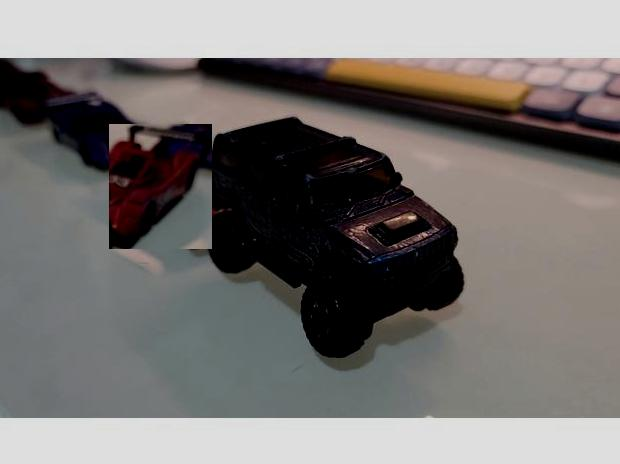toy-car: (206, 116, 464, 358), (108, 124, 211, 249), (40, 90, 154, 171), (0, 70, 78, 125)
